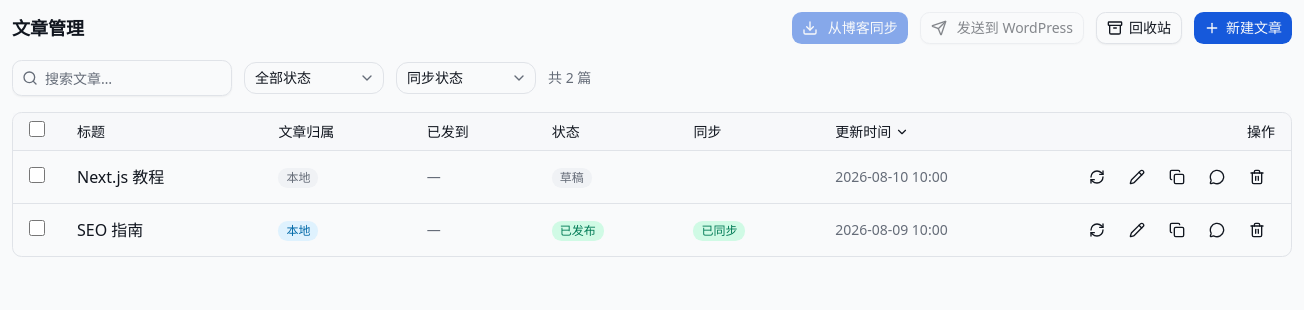
Scenario: ArticlesClient › 博客同步文章删除时 WP 移入回收站失败返回删除失败提示
The image size is (1304, 310).
expect the text "Next.js 教程" is shown: met, box [61,150,262,204]
Step 1. Click the button named "移入回收站" in the row of "Next.js 教程" → (1257, 177), box [1239,159,1275,195]
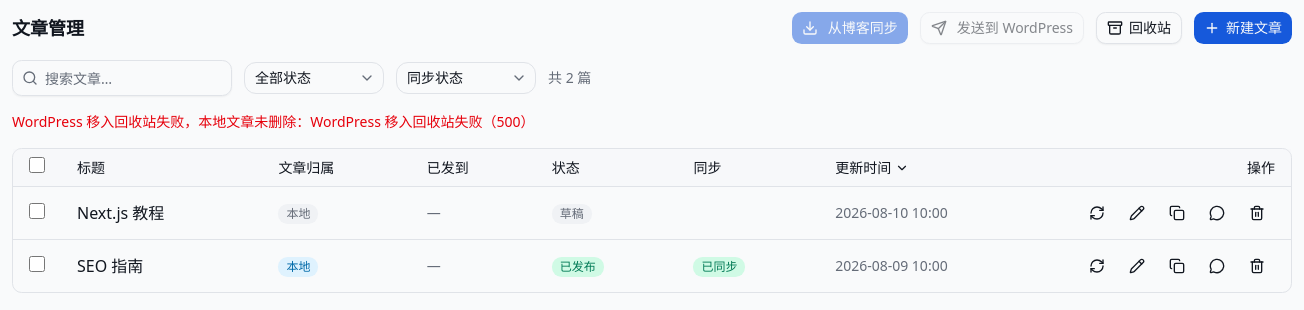
expect the message shows "WordPress 移入回收站失败": met, box [12,112,534,131]
